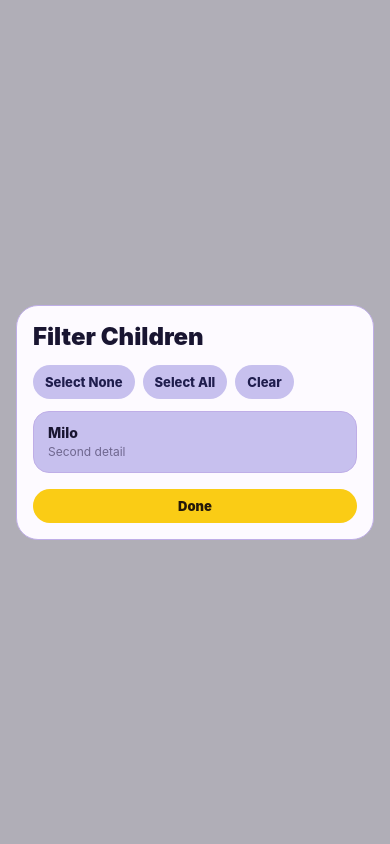
List mode components › supports a pinned clear action for a controlled text filter
Expected: the text "Milo" is shown, x1=48 y1=424 x2=78 y2=440
Expected: the text "Ava" is not shown
Click the button "Clear" at point(264, 382), box x1=235 y1=364 x2=294 y2=398
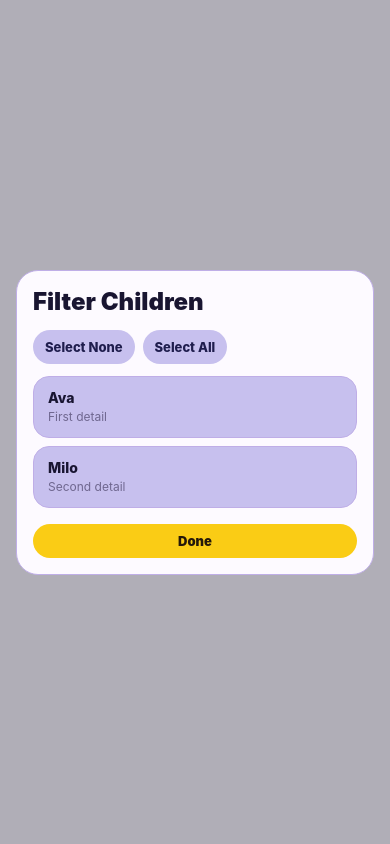
Expected: the text "Milo" is shown, x1=48 y1=458 x2=78 y2=476
Result: the text "Ava" is shown at x1=48 y1=388 x2=74 y2=406
